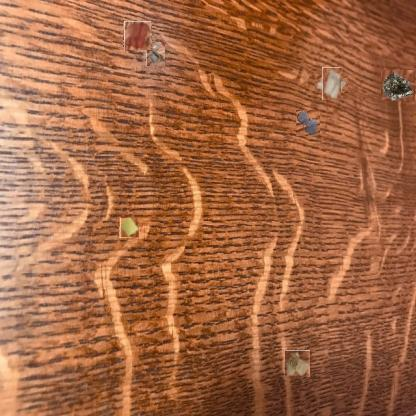dirty: (381, 68, 415, 102), (284, 350, 310, 377), (319, 70, 344, 96), (146, 42, 165, 66), (120, 219, 139, 238)
liquid: (124, 22, 152, 49), (296, 110, 320, 136)
